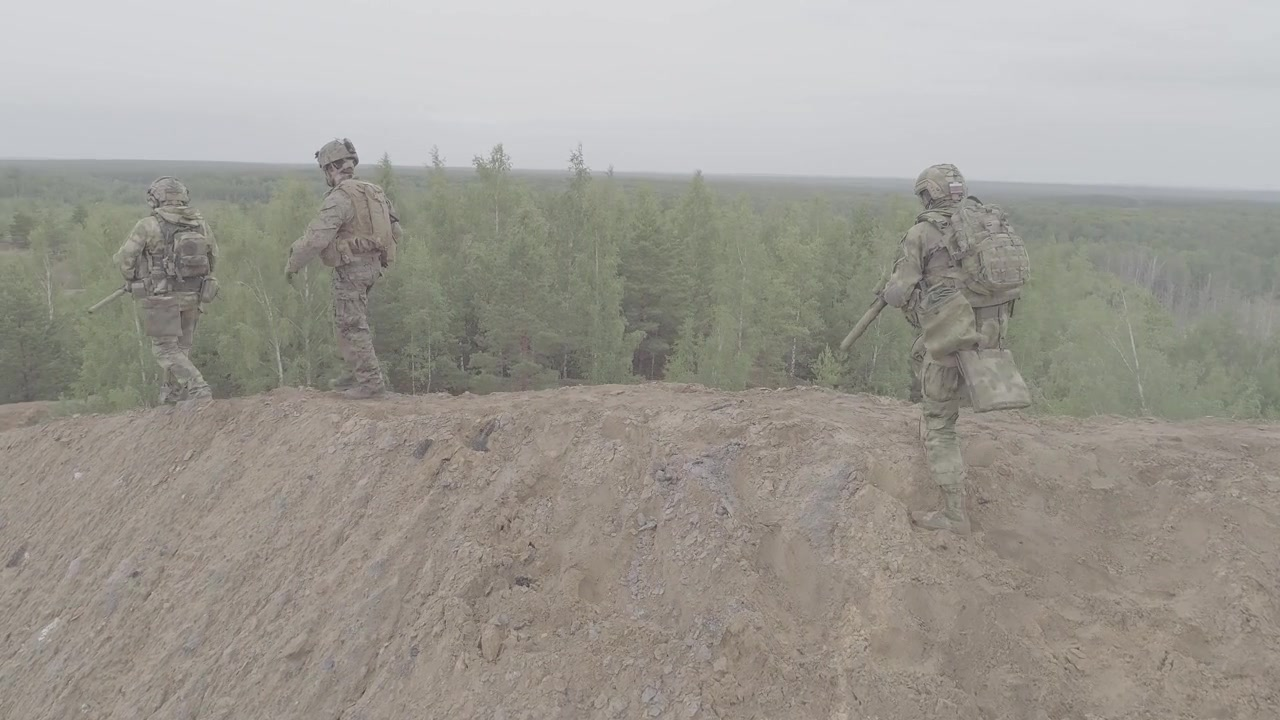person: (832, 164, 1060, 534), (293, 138, 410, 396), (127, 179, 224, 406)
